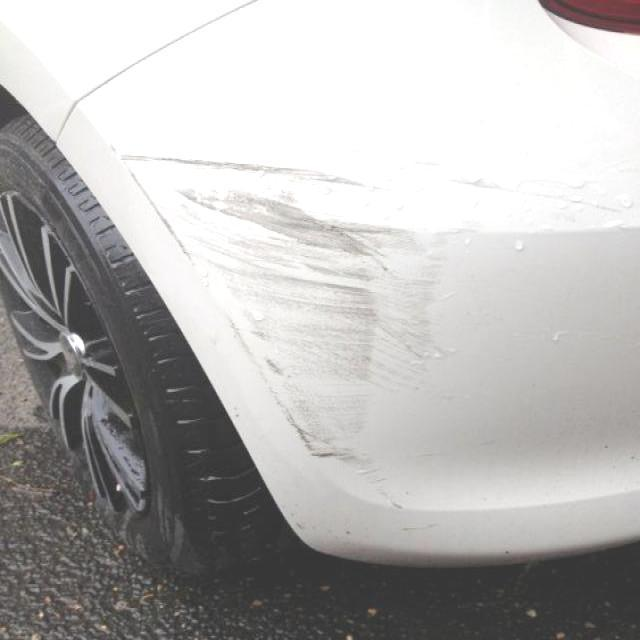minor: (385, 495, 421, 512)
moderate: (123, 159, 441, 459)
